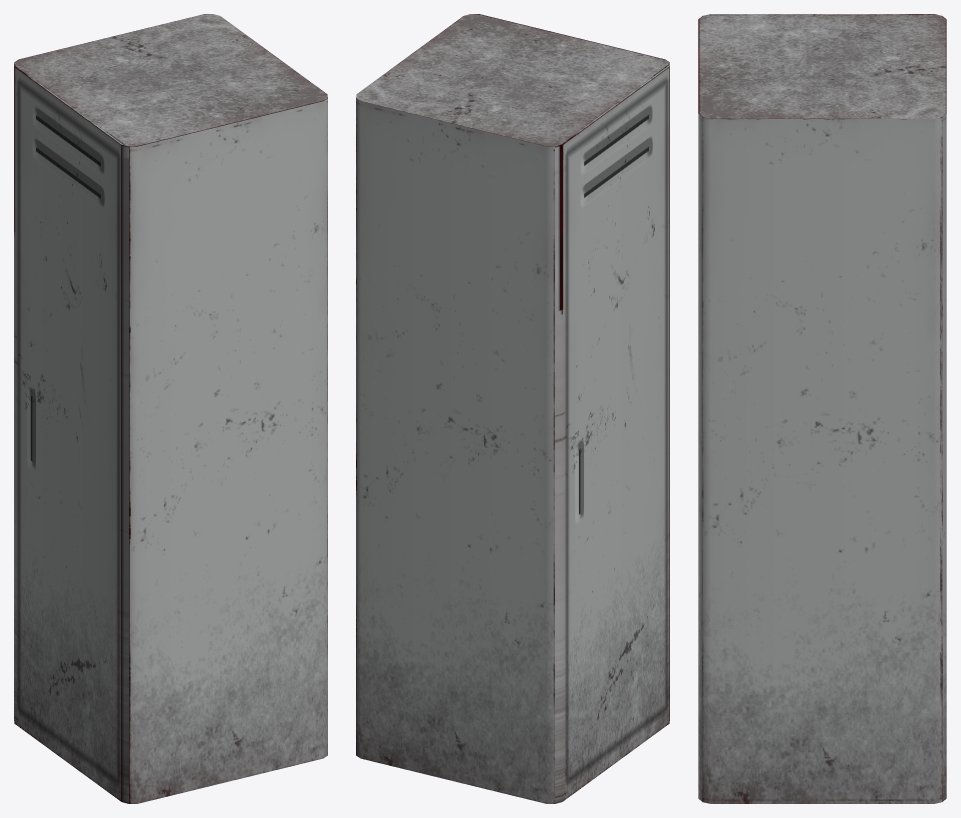
File: roccer_animation_01.fbx
3 renders of one model, left to right at view 1: azimuth 30°, elevation 25°; view 2: azimuth 150°, elevation 25°; view 3: azimuth 270°, elevation 25°, orthographic. The views are drawn at different scales.
Visible parts, largest first — view 1: roccer, roccer1; view 2: roccer, roccer1; view 3: roccer, roccer1.
Boxes of the visible parts, x1,y1,x2,y2 form: roccer: (14,14,327,803); roccer1: (19,57,146,803); roccer: (356,14,669,803); roccer1: (537,57,662,802); roccer: (698,14,946,803); roccer1: (699,19,946,23).
Size of the model in its own units: 39.69 by 121 by 39.69.
Materials: 1 (1 with a texture image).
